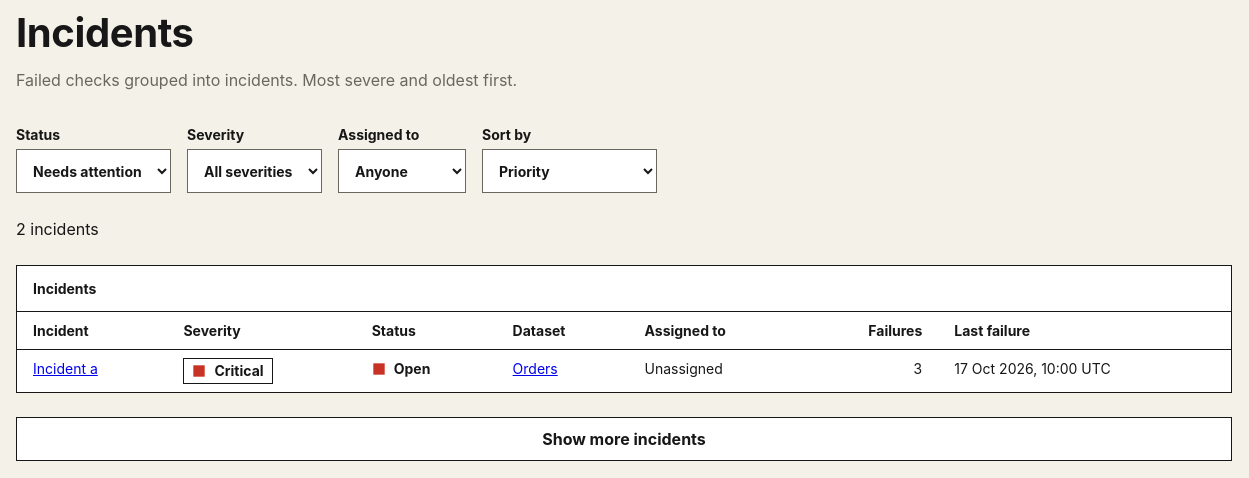
it: Incidents page › appends more incidents and hides the button on the last page
expect the link "Incident a" is shown: met, box top-left (33, 360), bottom-right (98, 377)
Click the button "Show more incidents": x=624, y=439 top-left (16, 417), bottom-right (1232, 461)
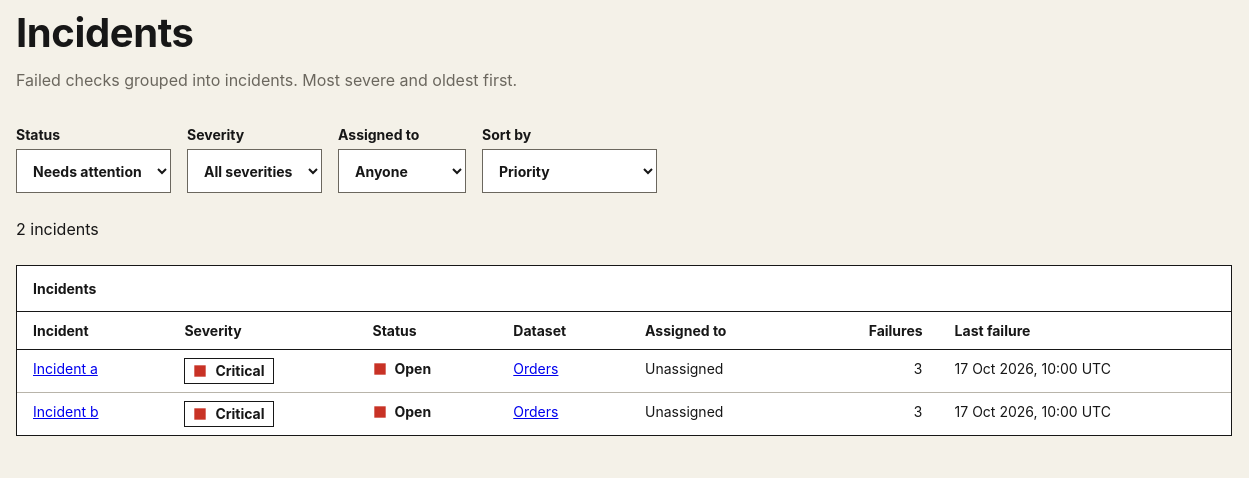
expect the link "Incident a" is shown: met, box top-left (33, 360), bottom-right (98, 377)
expect the link "Incident b" is shown: met, box top-left (33, 403), bottom-right (98, 420)
expect the button "Show more incidents" is gone: met
